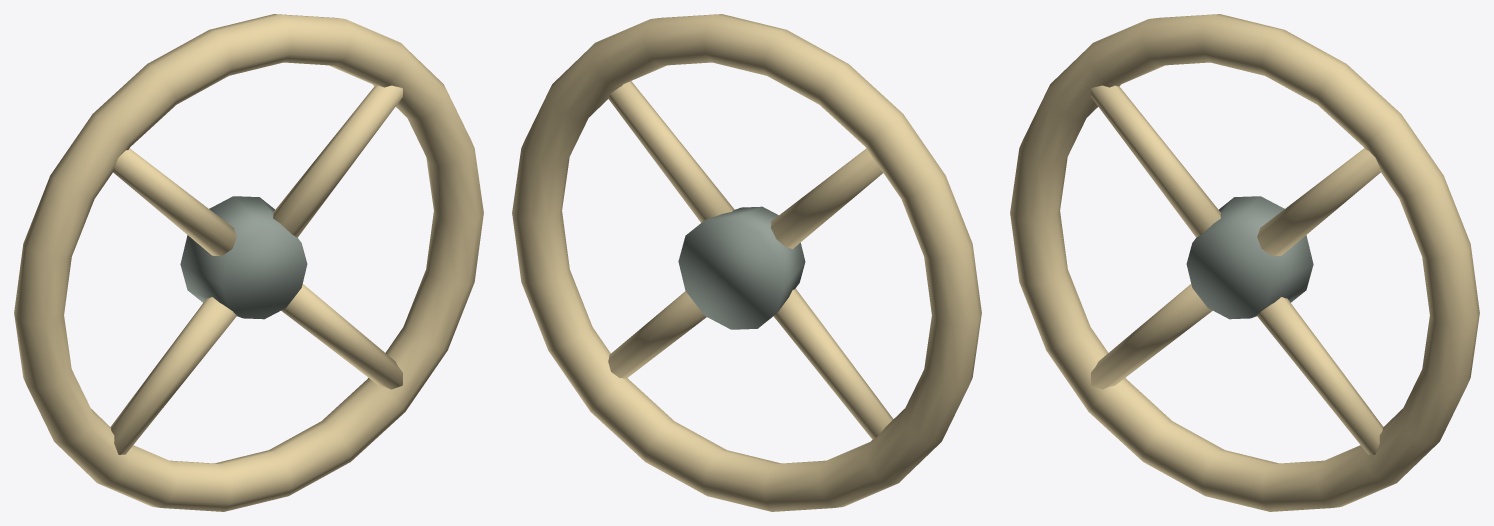
The model's file is bulkhead-handwheel.glb.
3 views of the same model, side by side, from view 1: azimuth 30°, elevation 25°; view 2: azimuth 150°, elevation 25°; view 3: azimuth 330°, elevation 25° (orthographic).
Visible parts, largest first — view 1: BulkheadWheel; view 2: BulkheadWheel; view 3: BulkheadWheel.
Boxes of the visible parts, x1,y1,x2,y2 form: BulkheadWheel: (14,14,483,511); BulkheadWheel: (512,14,981,511); BulkheadWheel: (1010,14,1479,511).
Size of the model in its own units: 0.596 by 0.5899 by 0.07.
